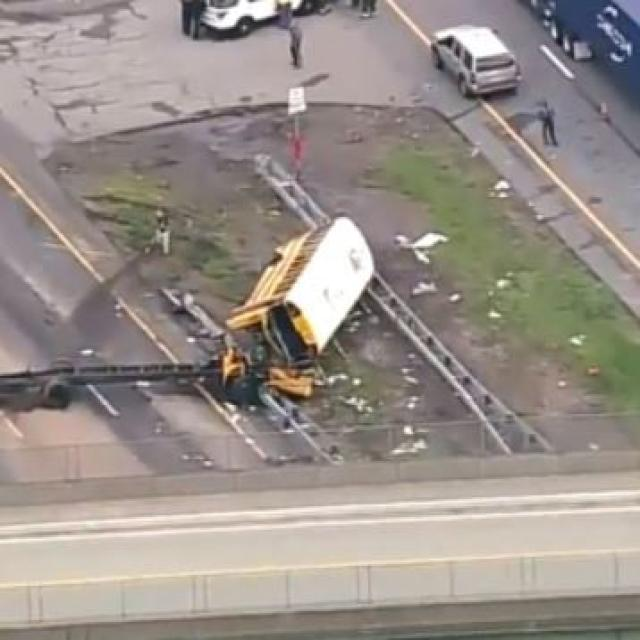traffic_incident: (208, 210, 382, 400)
